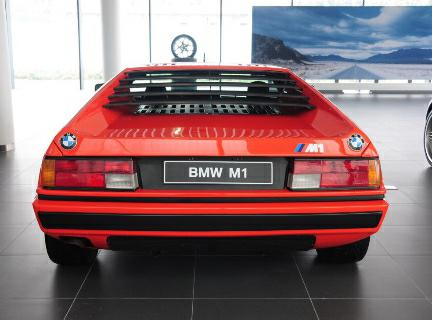宝马-M1: (30, 58, 391, 271)
